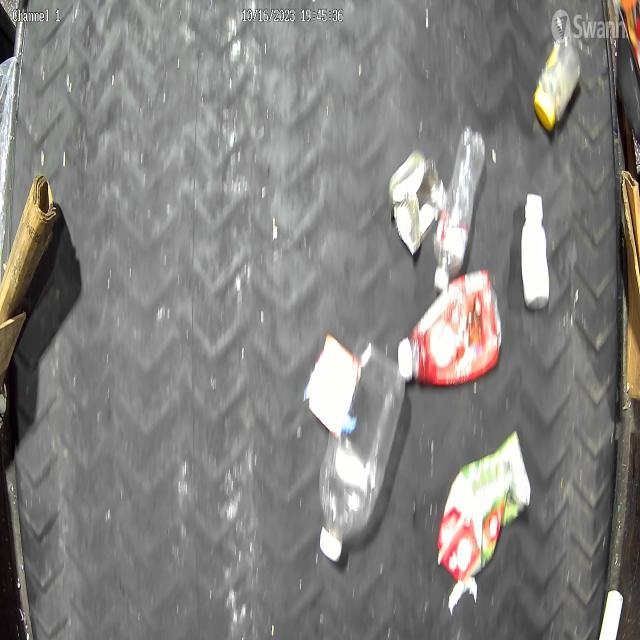can: (388, 147, 446, 257)
non_white_jug: (437, 429, 532, 583)
plastic_bottle: (318, 334, 408, 562), (432, 126, 486, 293)
